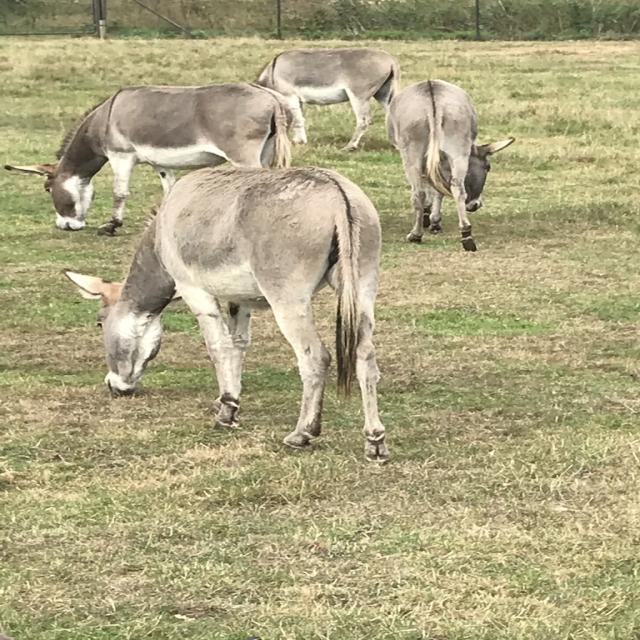Donkey: (59, 164, 392, 464), (3, 79, 294, 238), (383, 76, 518, 252), (248, 45, 406, 152)
